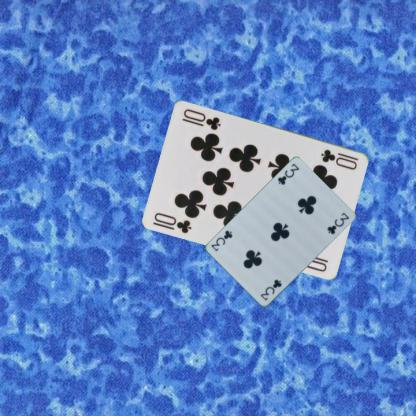10c: (318, 146, 360, 171), (152, 210, 193, 234)
3c: (275, 161, 300, 187), (258, 276, 283, 301)
